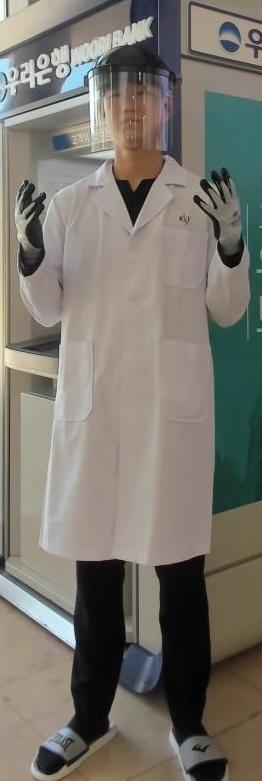lab_coat: (45, 170, 199, 559)
